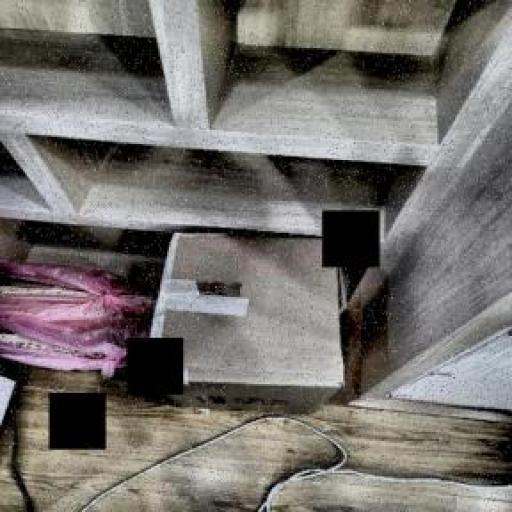box: (145, 228, 360, 424)
